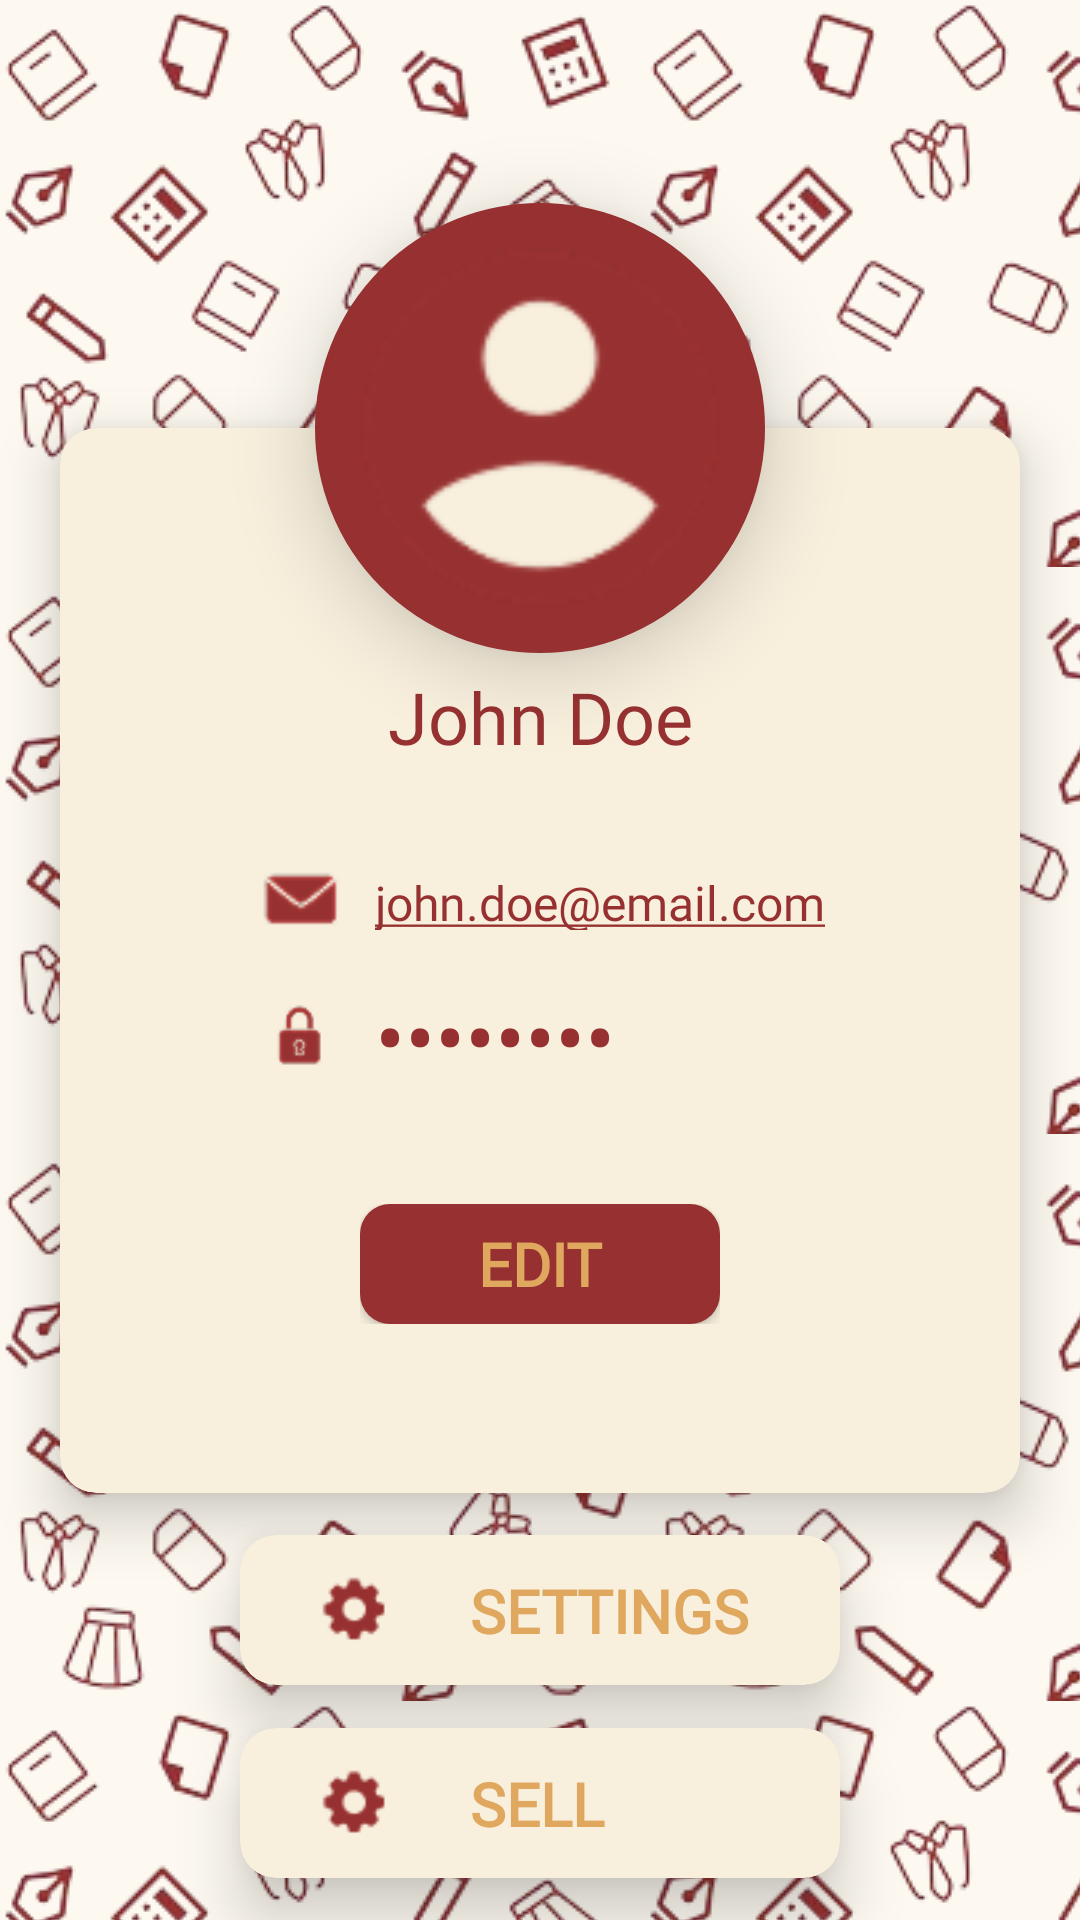

Point at icon controls on the screen. Image size 1080px×1920px, points as [x,y].
password: [299,1035]
